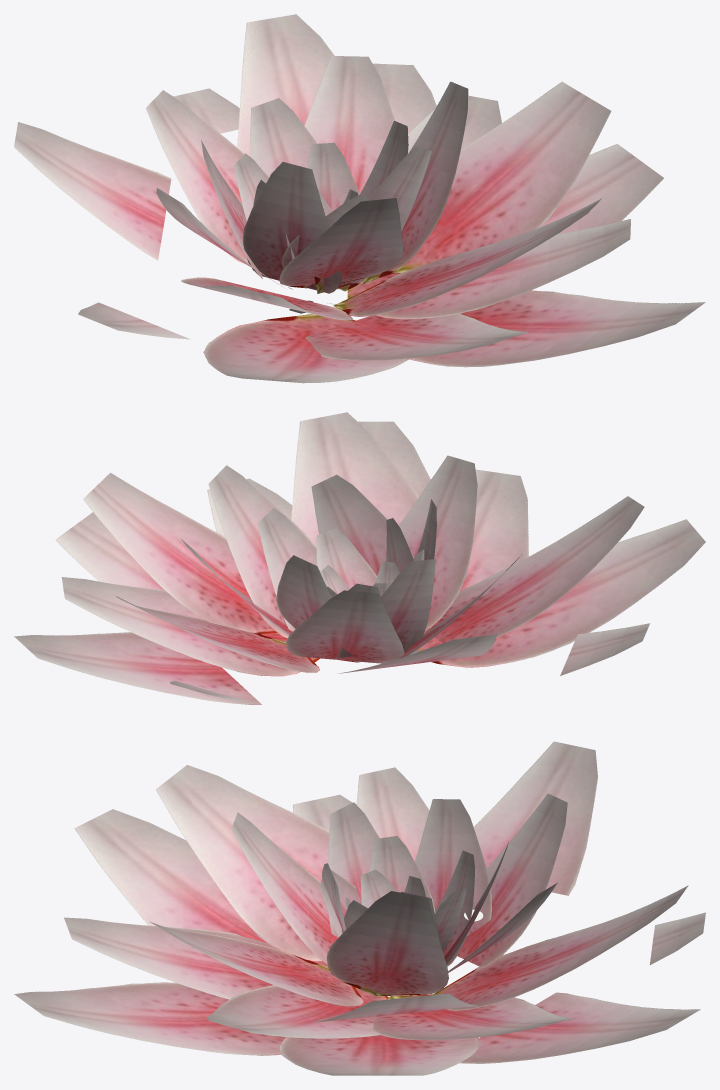
Rendered from flower_lili.fbx.
3 views of the same model, one above another, from view 1: azimuth 30°, elevation 25°; view 2: azimuth 150°, elevation 25°; view 3: azimuth 270°, elevation 25° (orthographic). The views are drawn at different scales.
Visible parts, largest first — view 1: polySurface220, polySurface219, polySurface228, polySurface157, polySurface224, polySurface227, polySurface159, polySurface207, polySurface43, polySurface27, polySurface208, polySurface19 (+89 smaller); view 2: polySurface171, polySurface169, polySurface219, polySurface220, polySurface224, polySurface58, polySurface228, polySurface172, polySurface51, polySurface61, polySurface56, polySurface139 (+87 smaller); view 3: polySurface58, polySurface56, polySurface140, polySurface147, polySurface61, polySurface44, polySurface148, polySurface43, polySurface145, polySurface213, polySurface139, polySurface67 (+100 smaller).
Part boxes in pixels (bbox=[...]): polySurface220: bbox=[460, 134, 571, 207]; polySurface219: bbox=[454, 151, 556, 227]; polySurface228: bbox=[486, 117, 585, 185]; polySurface157: bbox=[241, 37, 334, 75]; polySurface224: bbox=[446, 178, 537, 239]; polySurface227: bbox=[512, 99, 598, 160]; polySurface159: bbox=[240, 62, 328, 102]; polySurface207: bbox=[132, 168, 171, 260]; polySurface43: bbox=[469, 294, 592, 366]; polySurface27: bbox=[587, 144, 663, 200]; polySurface208: bbox=[108, 158, 144, 243]; polySurface19: bbox=[571, 160, 642, 221]; polySurface171: bbox=[293, 454, 401, 496]; polySurface169: bbox=[295, 433, 385, 471]; polySurface219: bbox=[155, 529, 228, 598]; polySurface220: bbox=[136, 515, 208, 580]; polySurface224: bbox=[175, 547, 239, 614]; polySurface58: bbox=[600, 541, 659, 603]; polySurface228: bbox=[118, 501, 184, 561]; polySurface172: bbox=[291, 475, 418, 520]; polySurface51: bbox=[102, 632, 198, 698]; polySurface61: bbox=[623, 530, 683, 584]; polySurface56: bbox=[578, 562, 634, 620]; polySurface139: bbox=[480, 569, 555, 617]; polySurface58: bbox=[107, 838, 199, 897]; polySurface56: bbox=[125, 860, 214, 918]; polySurface140: bbox=[215, 816, 326, 903]; polySurface147: bbox=[184, 790, 272, 859]; polySurface61: bbox=[91, 823, 181, 875]; polySurface44: bbox=[145, 982, 273, 1055]; polySurface148: bbox=[200, 803, 300, 882]; polySurface43: bbox=[120, 983, 242, 1054]; polySurface145: bbox=[170, 776, 244, 837]; polySurface213: bbox=[514, 763, 597, 802]; polySurface139: bbox=[231, 830, 329, 924]; polySurface67: bbox=[143, 883, 230, 928].
Bounding box in the file's own units: 155 × 45.43 × 162.
